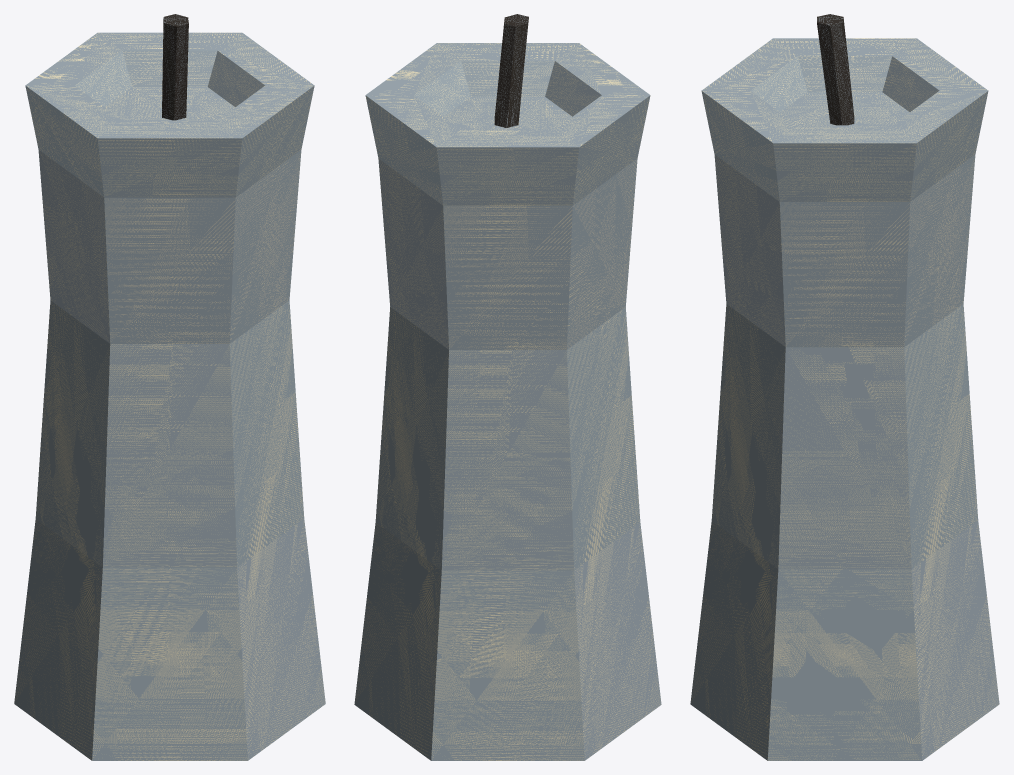
The model's file is Dungeon_Candle_01.fbx.
3 renders of one model, left to right at view 1: azimuth 30°, elevation 25°; view 2: azimuth 150°, elevation 25°; view 3: azimuth 270°, elevation 25°, orthographic.
Visible parts, largest first — view 1: Model; view 2: Model; view 3: Model.
Boxes of the visible parts, left/top/right/bottom form: Model: left=14, top=14, right=325, bottom=760; Model: left=354, top=14, right=661, bottom=760; Model: left=690, top=14, right=999, bottom=760.
Bounding box in the file's own units: 20.84 × 58.72 × 24.06.
